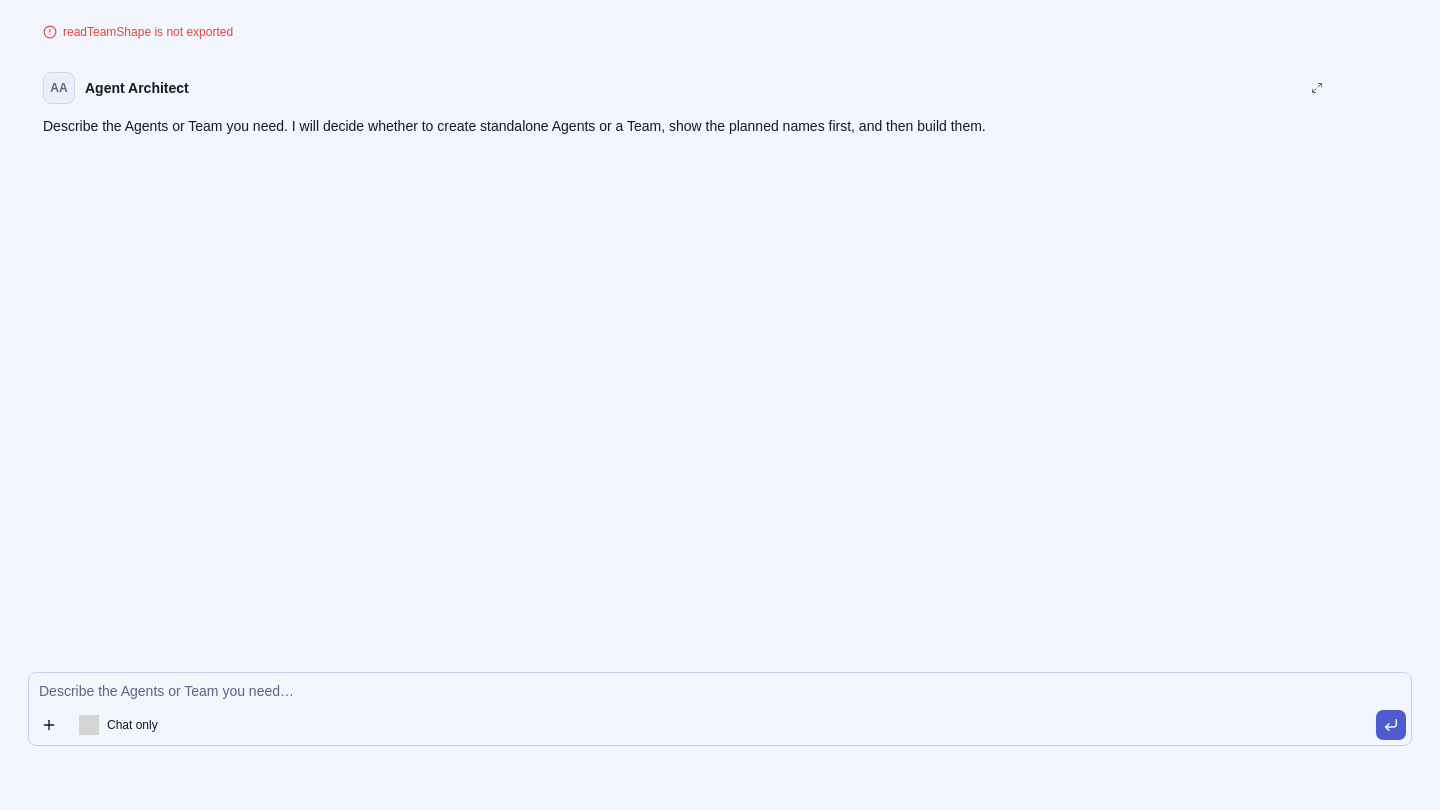
Create authoring model provenance › shows the answer without a speculative Mermaid workflow or default-model card
Expected: the button with aria-label "Agent Architect model" reads "Chat only", [71,709,279,741]
Step 1. Type "Create three lawyers" into the text box → [720, 709], box [29,673,1411,745]
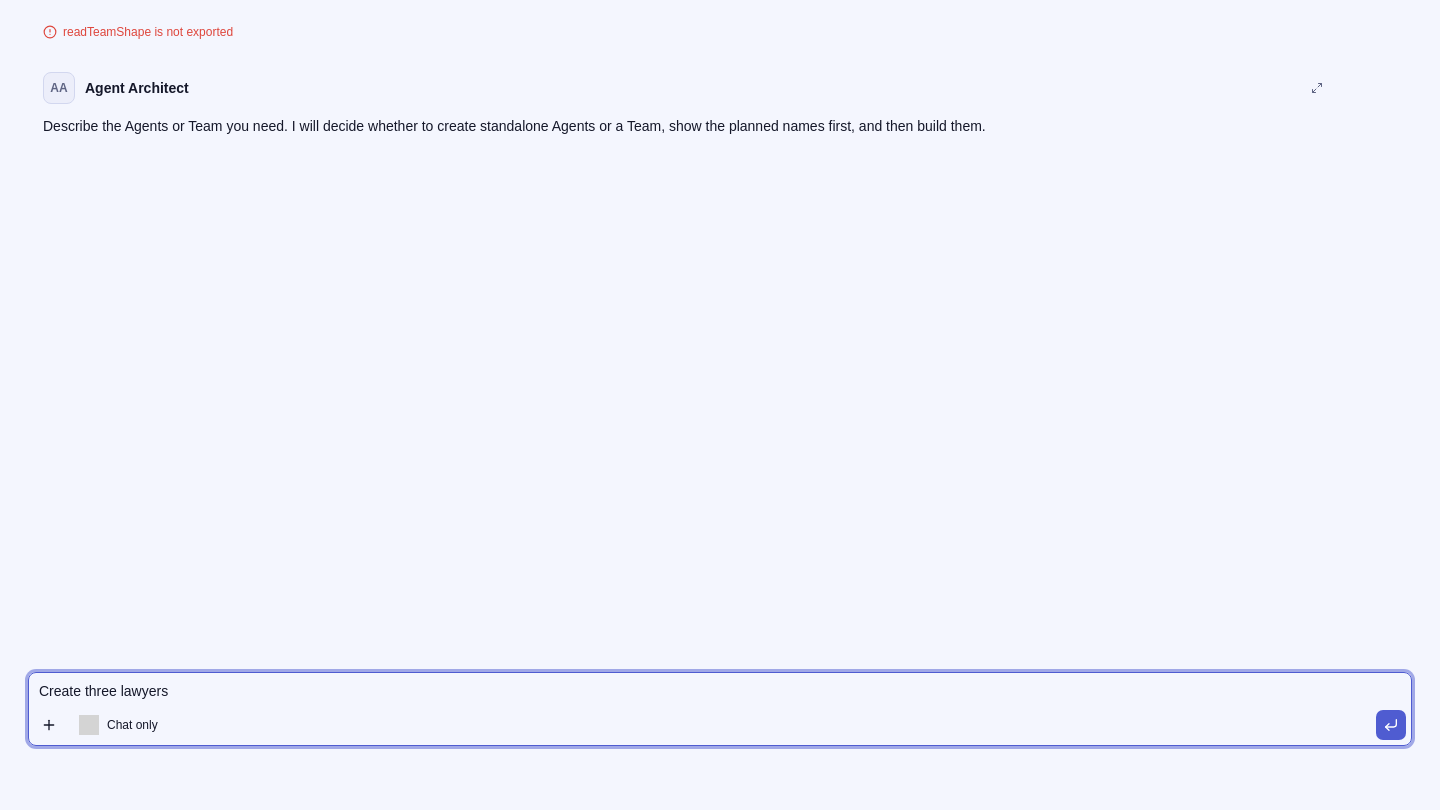
Step 2. Click the button named "Submit" → [1391, 725], box [1375,709,1407,741]
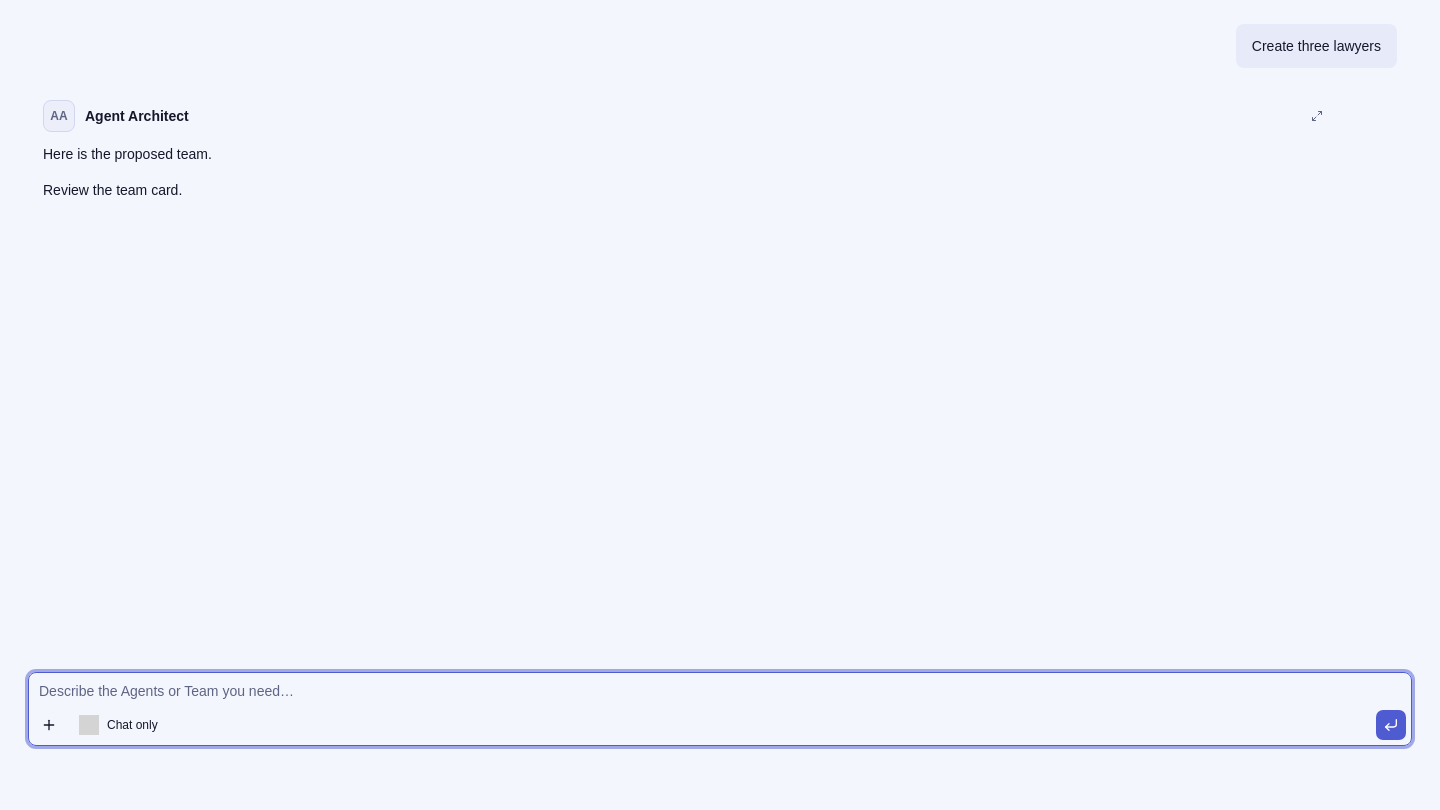
Result: the text "Review the team card." is shown at [43,182,182,198]
Result: the text "Here is the proposed team." is shown at [43,144,212,164]
